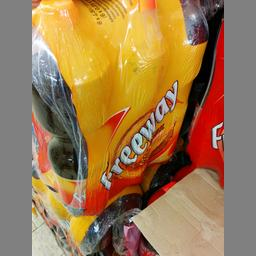soda: (32, 0, 207, 217)
